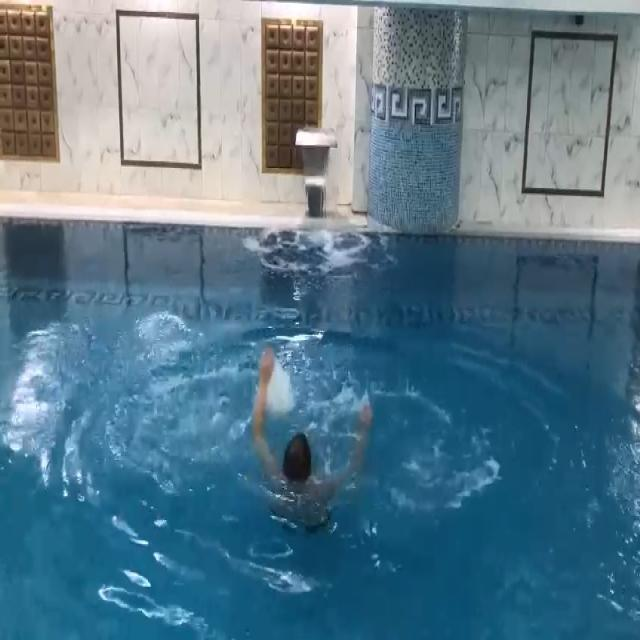Drowning: (249, 348, 374, 534)
